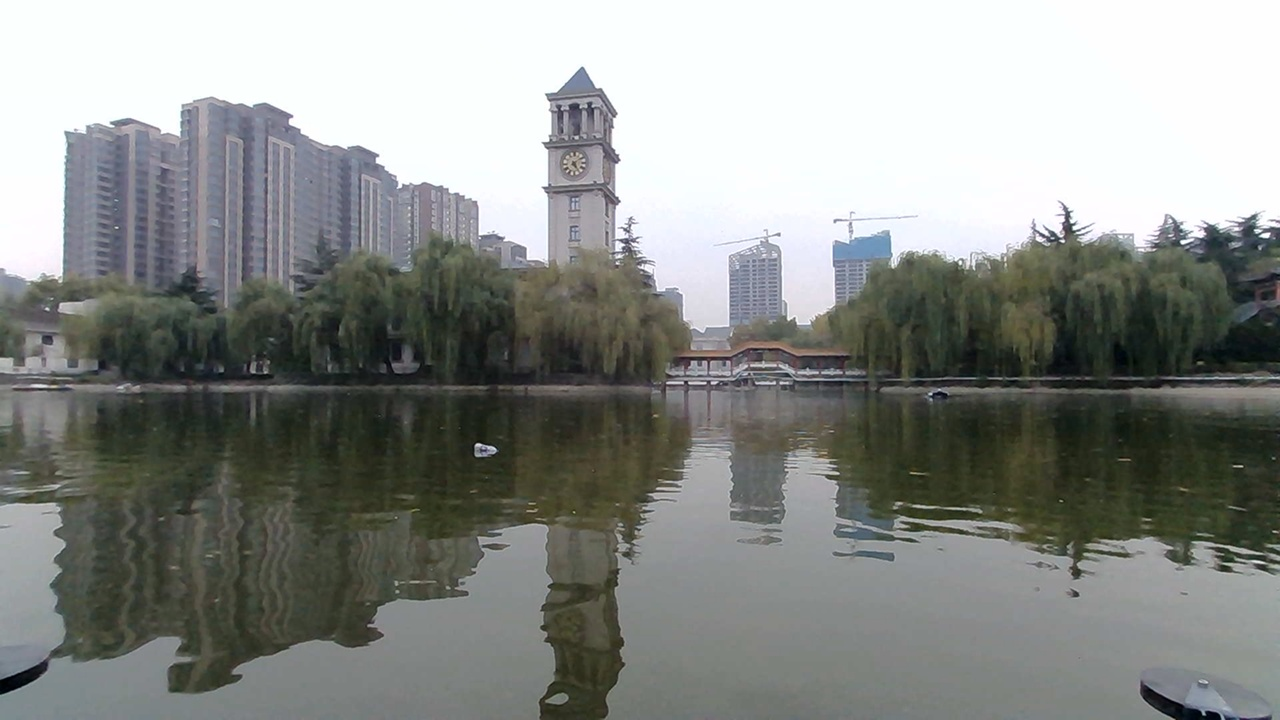bottle: (461, 431, 513, 469)
